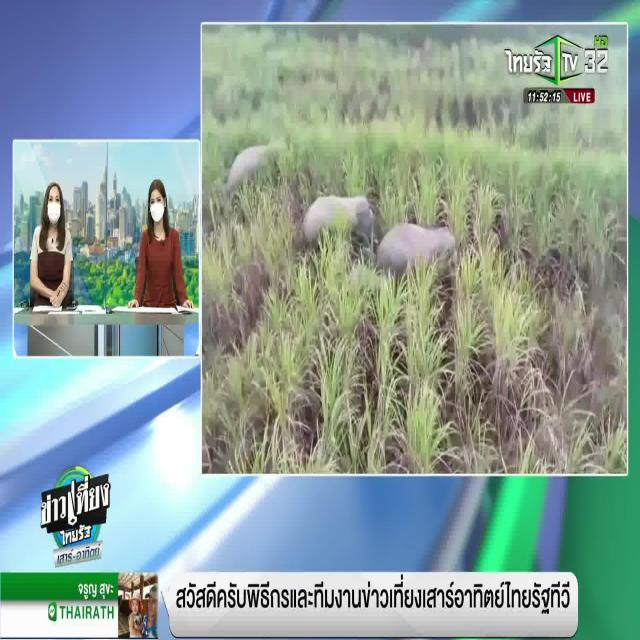Elephant: (390, 220, 459, 270), (314, 193, 373, 231), (239, 143, 289, 179)
